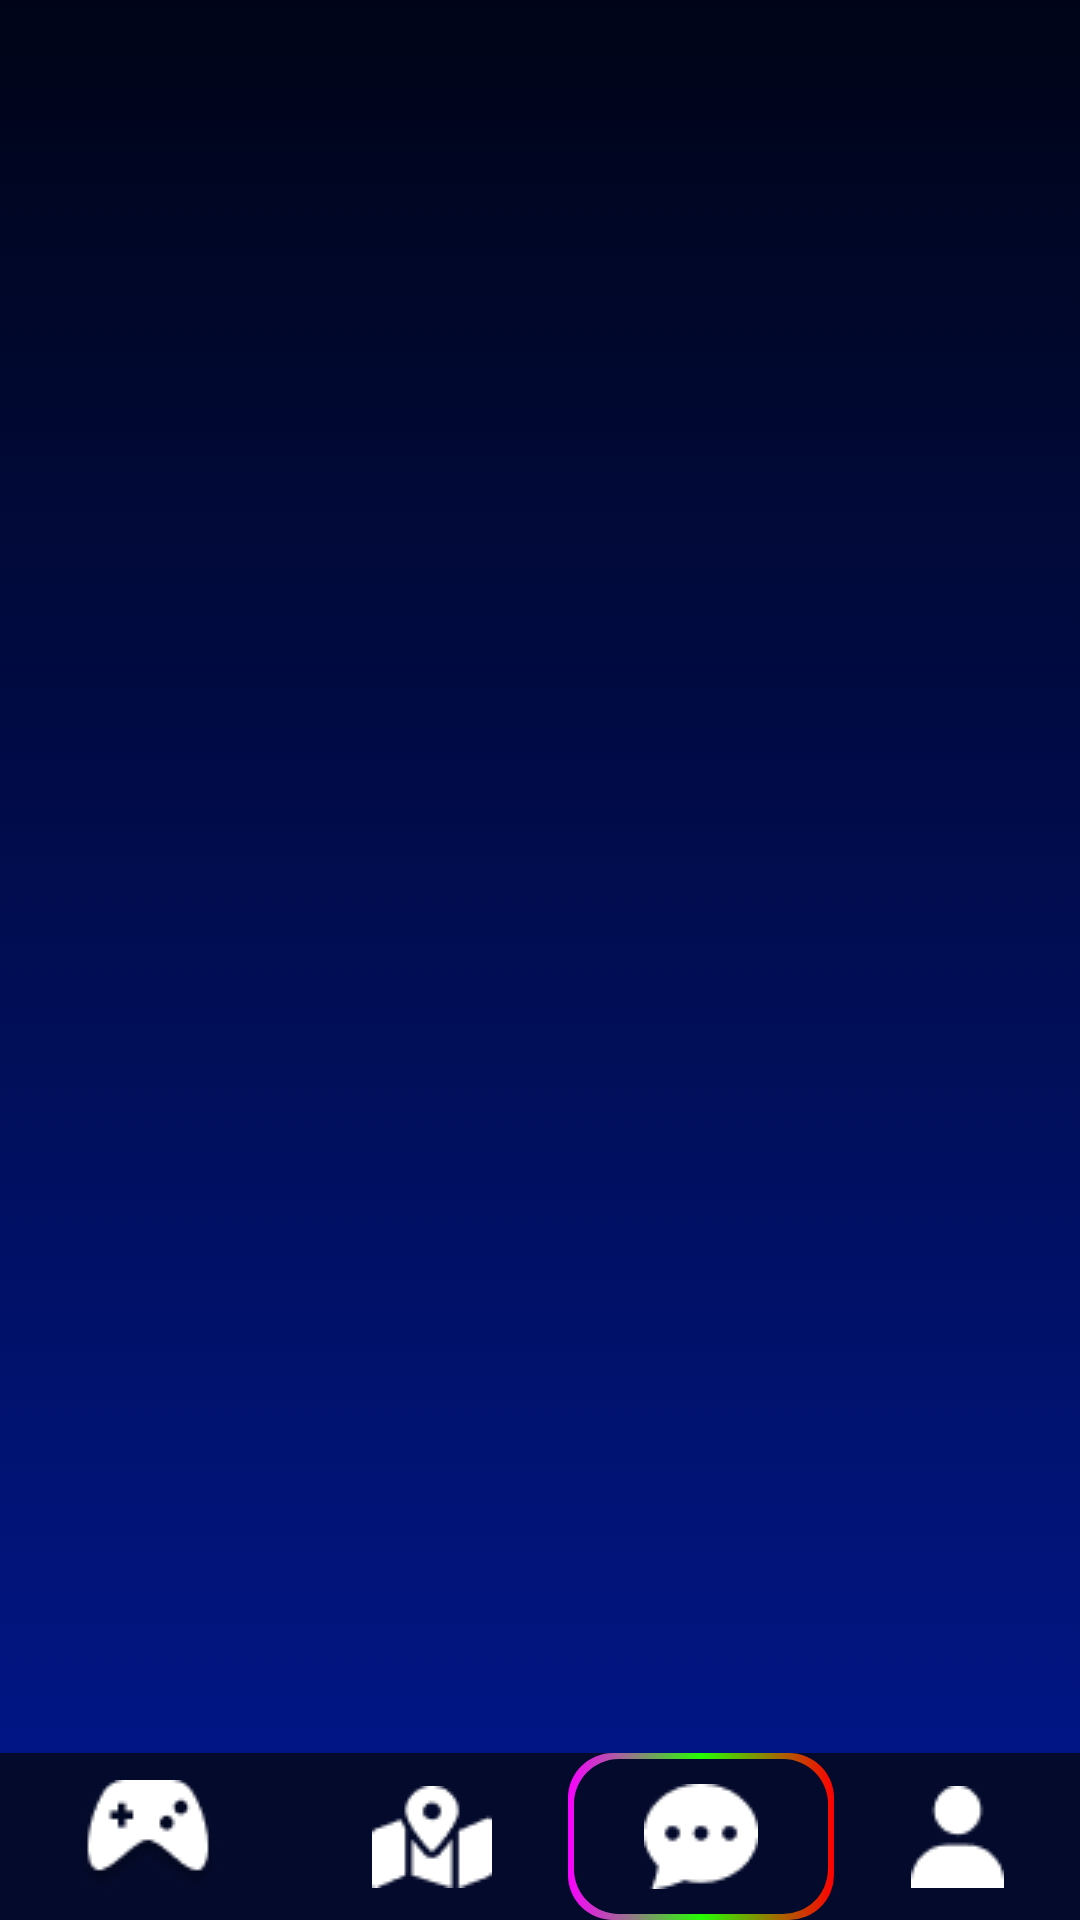

Icons on this 1080 × 1920 Android screen, each with its box as bbox=[x1, y1, x2, y2]:
controlrecto: bbox=[87, 1780, 209, 1871]
hito: bbox=[834, 1753, 1080, 1920]
mapa: bbox=[372, 1786, 492, 1888]
